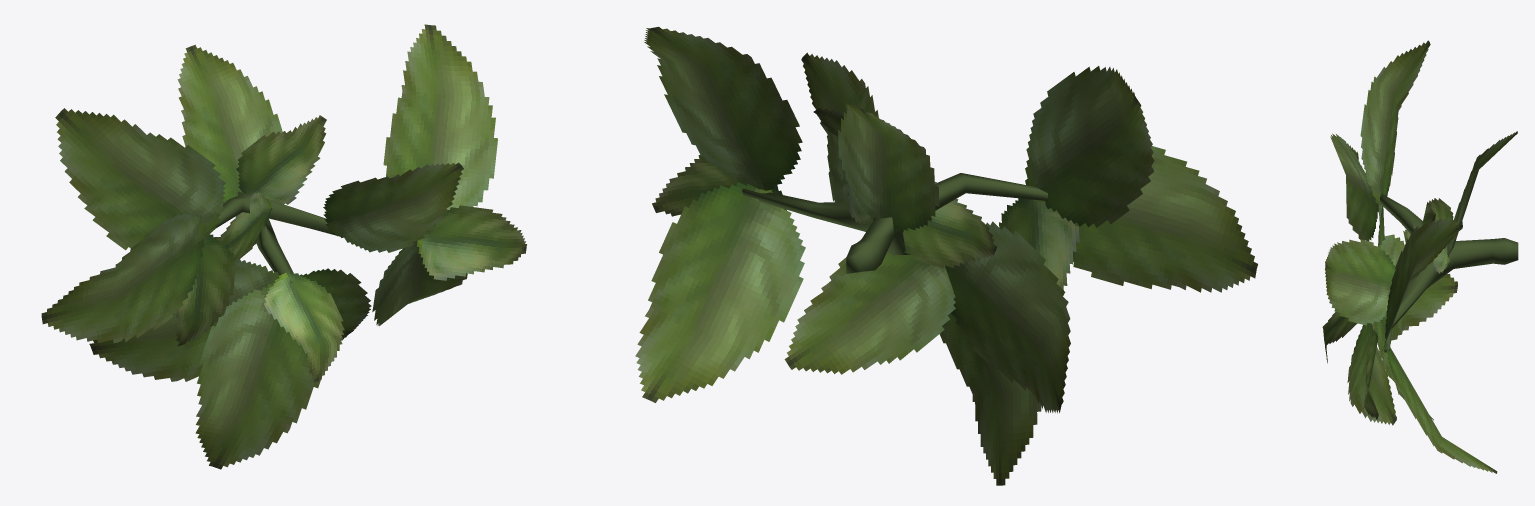
The model's file is Plant 1.fbx.
The picture shows the model from 3 angles, left to right: view 1: azimuth 30°, elevation 25°; view 2: azimuth 150°, elevation 25°; view 3: azimuth 270°, elevation 25°; orthographic projection. The views are drawn at different scales.
Visible parts, largest first — view 1: Cube; view 2: Cube; view 3: Cube.
Part boxes in pixels (x1,y1,x2,y2): Cube: (41, 24, 526, 469); Cube: (635, 26, 1257, 485); Cube: (1322, 40, 1518, 473).
Bounding box in the file's own units: 2.76 × 2.18 × 1.06.
